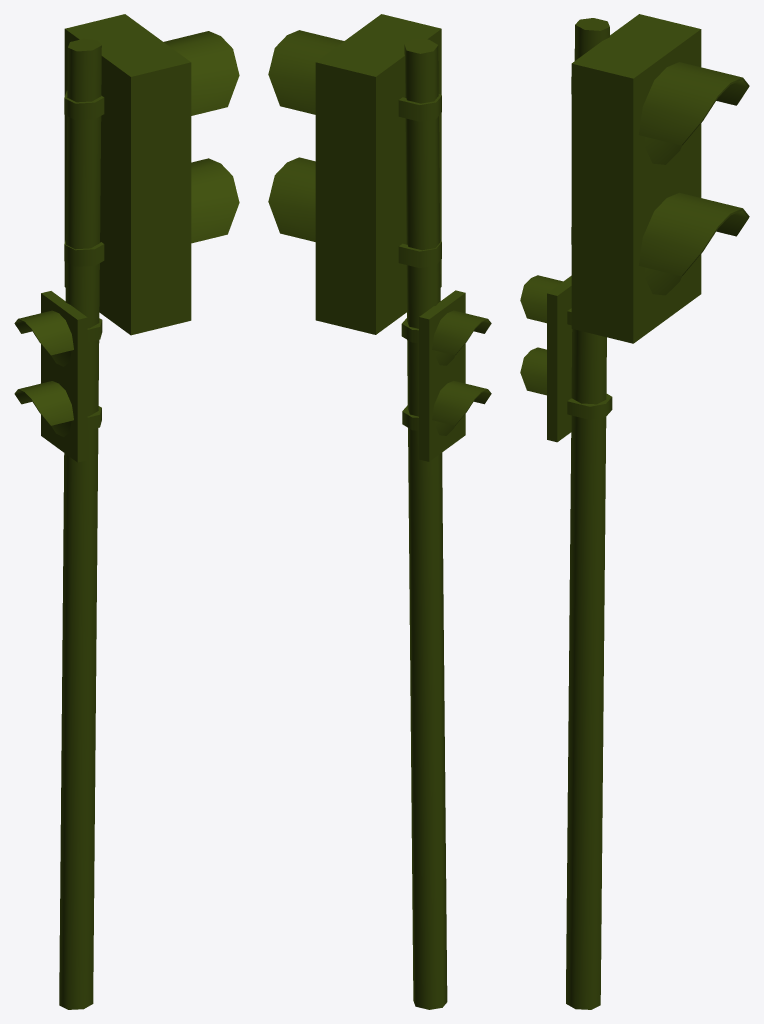
The model's file is T2_Lights04_M.fbx.
3 renders of one model, left to right at view 1: azimuth 30°, elevation 25°; view 2: azimuth 150°, elevation 25°; view 3: azimuth 330°, elevation 25°, orthographic. The views are drawn at different scales.
Parts seen in each view (by area): view 1: T2_Lights04; view 2: T2_Lights04; view 3: T2_Lights04, T2_Lights04_L1, T2_Lights04_L2.
Part boxes in pixels (left/top/right/bottom): T2_Lights04: left=14, top=14, right=239, bottom=1009; T2_Lights04: left=268, top=14, right=491, bottom=1009; T2_Lights04: left=520, top=14, right=749, bottom=1009; T2_Lights04_L1: left=645, top=136, right=682, bottom=164; T2_Lights04_L2: left=645, top=267, right=681, bottom=295.
Size of the model in its own units: 0.21 by 0.9828 by 0.123.
